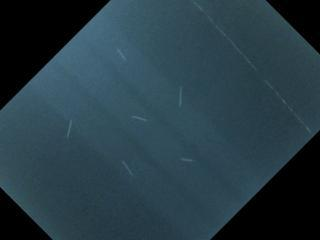crack: (190, 2, 311, 132)
scratch: (120, 157, 139, 177), (129, 113, 151, 125), (178, 155, 198, 166), (65, 117, 74, 140), (177, 85, 185, 109), (116, 48, 126, 60)
